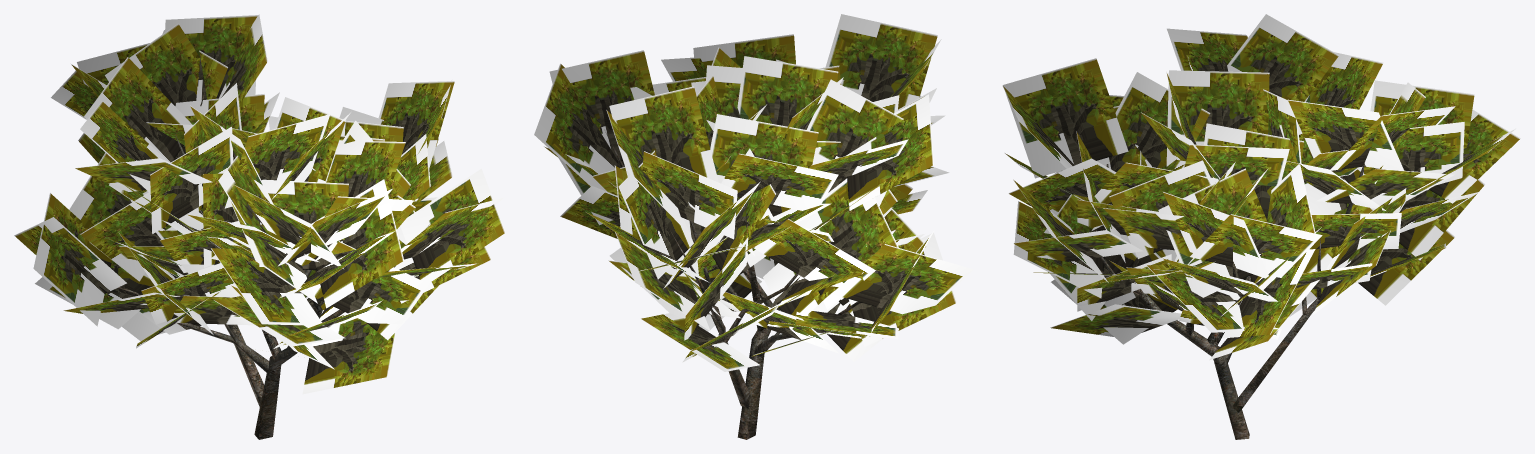
Rendered from MainCity_GuanMu_07.fbx.
3 views of the same model, side by side, from view 1: azimuth 30°, elevation 25°; view 2: azimuth 150°, elevation 25°; view 3: azimuth 270°, elevation 25° (orthographic). The views are drawn at different scales.
Visible parts, largest first — view 1: MainCity_GuanMu_07; view 2: MainCity_GuanMu_07; view 3: MainCity_GuanMu_07.
Part boxes in pixels (x1,y1,x2,y2): MainCity_GuanMu_07: (14,14,505,439); MainCity_GuanMu_07: (534,14,973,439); MainCity_GuanMu_07: (1002,14,1520,439).
Bounding box in the file's own units: 276 × 226 × 298.
1 material, 1 textured.
